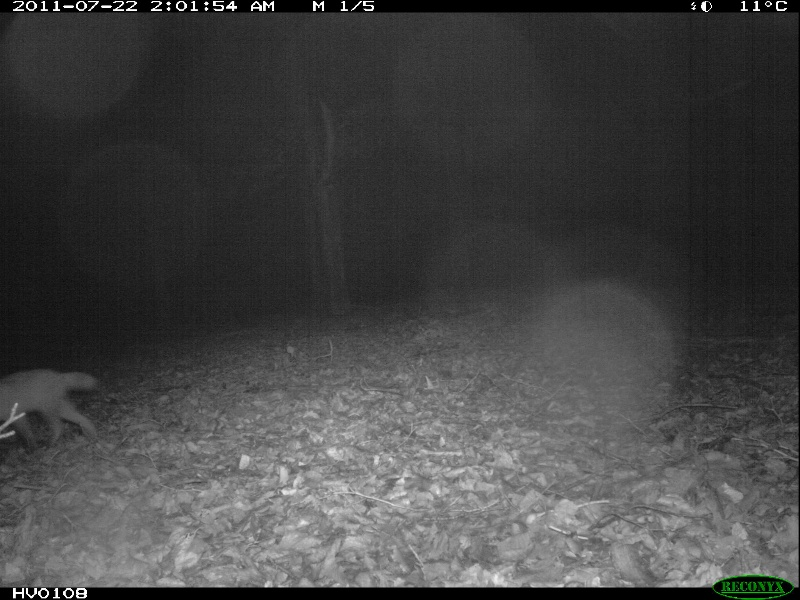fox: (1, 359, 107, 450)
